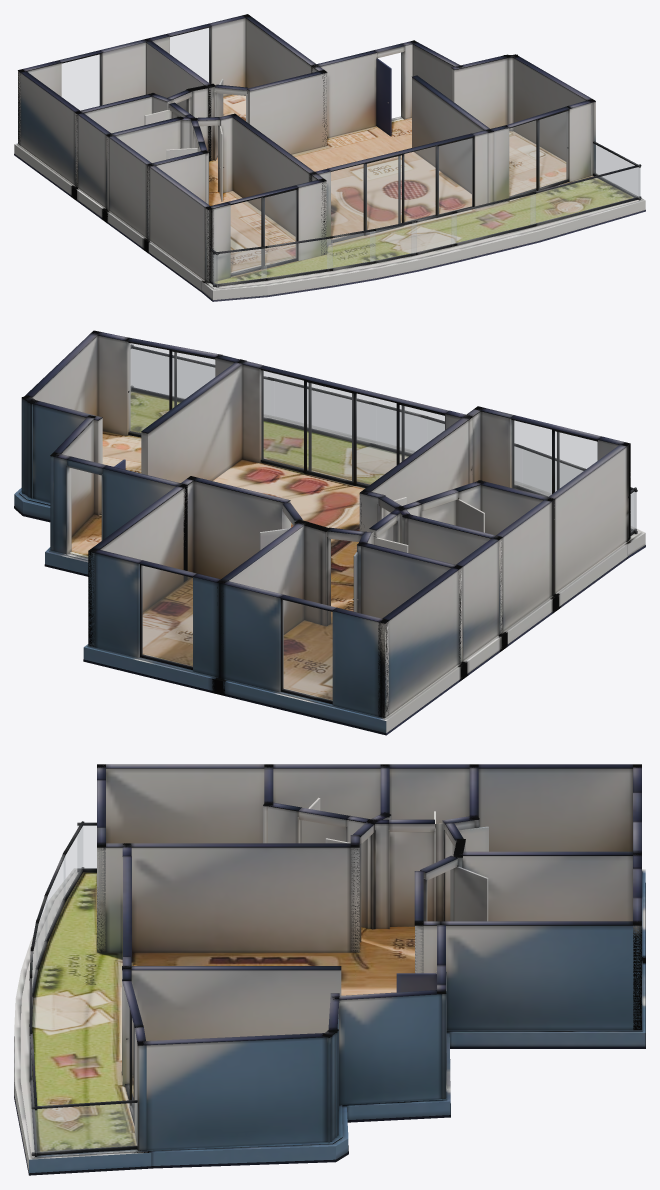
The picture shows the model from 3 angles, top to bottom: view 1: azimuth 30°, elevation 25°; view 2: azimuth 150°, elevation 25°; view 3: azimuth 270°, elevation 25°; orthographic projection. The views are drawn at different scales.
Parts seen in each view (by area): view 1: plan, glass2_m, glass4_m, glass3_m, railg9_m, railg4_m, railg13_m, glass0_m, railg14_m, railg12_m, glass1_m, railg11_m (+2 smaller); view 2: plan, glass2_m, glass3_m, glass1_m, glass0_m, glass4_m, railg4_m, railg9_m, railg13_m, railg10_m; view 3: plan, railg8_m, railg13_m, railg6_m, railg14_m.
Boxes of the visible parts, x1=… form: plan: x1=14, y1=14, x2=645, y2=301; glass2_m: x1=331, y1=138, x2=472, y2=240; glass4_m: x1=231, y1=190, x2=296, y2=273; glass3_m: x1=509, y1=111, x2=567, y2=197; railg9_m: x1=530, y1=167, x2=640, y2=224; railg4_m: x1=451, y1=194, x2=535, y2=243; railg13_m: x1=261, y1=238, x2=332, y2=278; glass0_m: x1=62, y1=54, x2=100, y2=110; railg14_m: x1=213, y1=248, x2=266, y2=284; railg12_m: x1=327, y1=231, x2=375, y2=268; glass1_m: x1=170, y1=28, x2=209, y2=82; railg11_m: x1=370, y1=223, x2=416, y2=261; plan: x1=14, y1=330, x2=645, y2=735; glass2_m: x1=261, y1=370, x2=444, y2=485; glass3_m: x1=129, y1=343, x2=214, y2=434; glass1_m: x1=142, y1=566, x2=192, y2=666; glass0_m: x1=283, y1=600, x2=332, y2=700; glass4_m: x1=512, y1=420, x2=597, y2=496; railg4_m: x1=275, y1=382, x2=369, y2=442; railg9_m: x1=131, y1=349, x2=270, y2=418; railg13_m: x1=522, y1=449, x2=582, y2=496; railg10_m: x1=377, y1=406, x2=420, y2=453; plan: x1=14, y1=764, x2=645, y2=1175; railg8_m: x1=32, y1=1103, x2=137, y2=1152; railg13_m: x1=45, y1=857, x2=65, y2=939; railg6_m: x1=77, y1=826, x2=96, y2=868; railg14_m: x1=64, y1=827, x2=82, y2=898.
Bounding box in the file's own units: 13.41 × 2.62 × 12.29.
2 materials, 1 textured.
